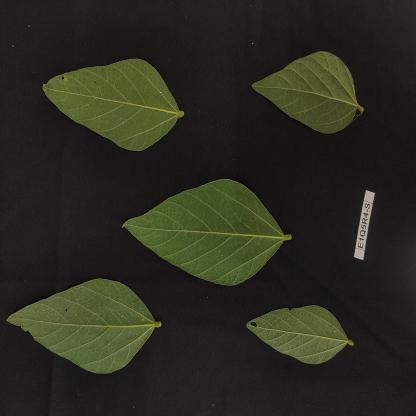label: (350, 184, 383, 268)
leaflets: (0, 254, 164, 390), (120, 172, 292, 296), (25, 56, 193, 160), (246, 43, 364, 151), (238, 292, 361, 367)
